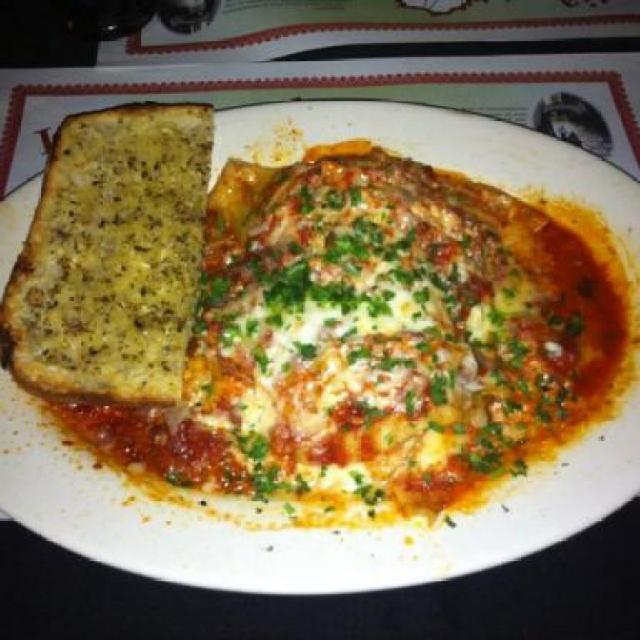Lasagna: (212, 160, 576, 486)
